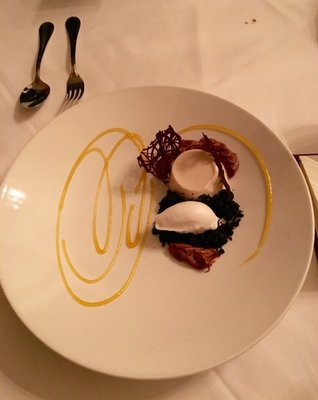salad: (18, 21, 54, 110)
